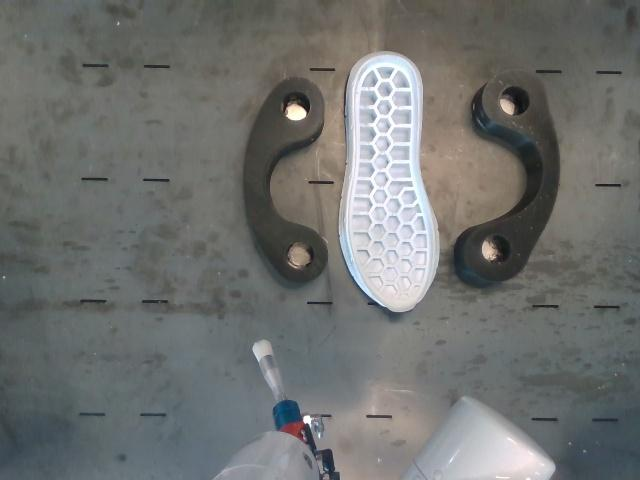shoes: (347, 56, 434, 312)
